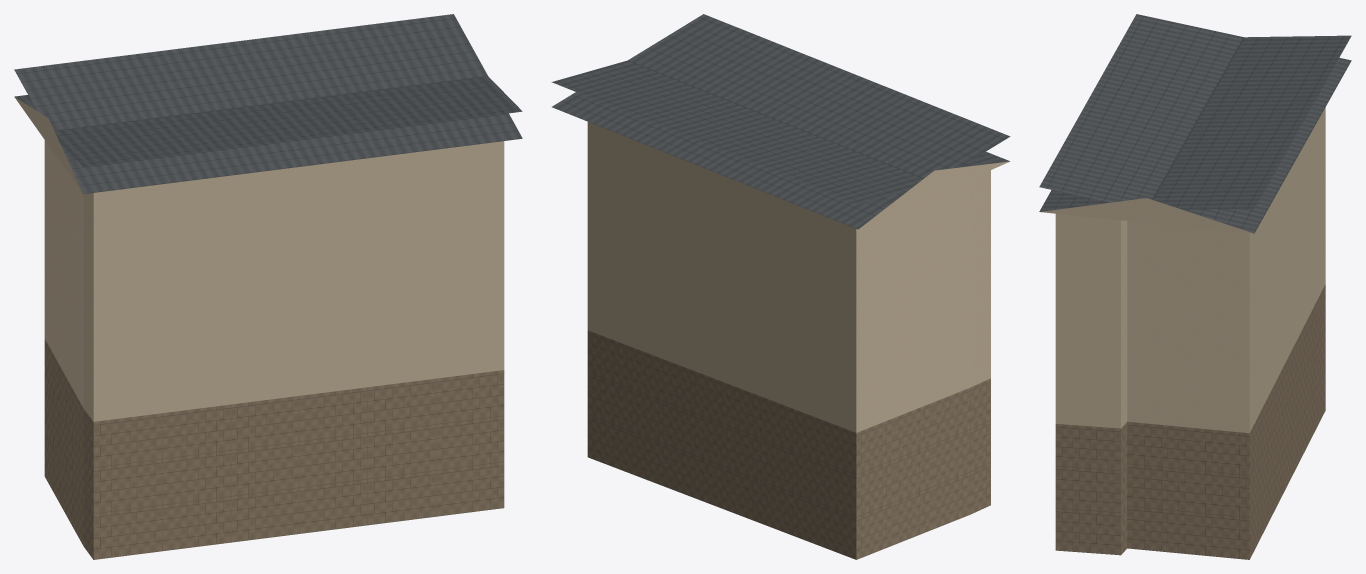
The model's file is bld_c8_35_484.gltf.
3 renders of one model, left to right at view 1: azimuth 30°, elevation 25°; view 2: azimuth 150°, elevation 25°; view 3: azimuth 270°, elevation 25°, orthographic. The views are drawn at different scales.
Parts seen in each view (by area): view 1: bld_c8_35_484; view 2: bld_c8_35_484; view 3: bld_c8_35_484.
Part boxes in pixels (x1,y1,x2,y2): bld_c8_35_484: (14, 14, 522, 559); bld_c8_35_484: (551, 14, 1010, 559); bld_c8_35_484: (1039, 14, 1351, 559).
Size of the model in its own units: 16.81 by 14.8 by 11.4.
Materials: 4 (4 with a texture image).
